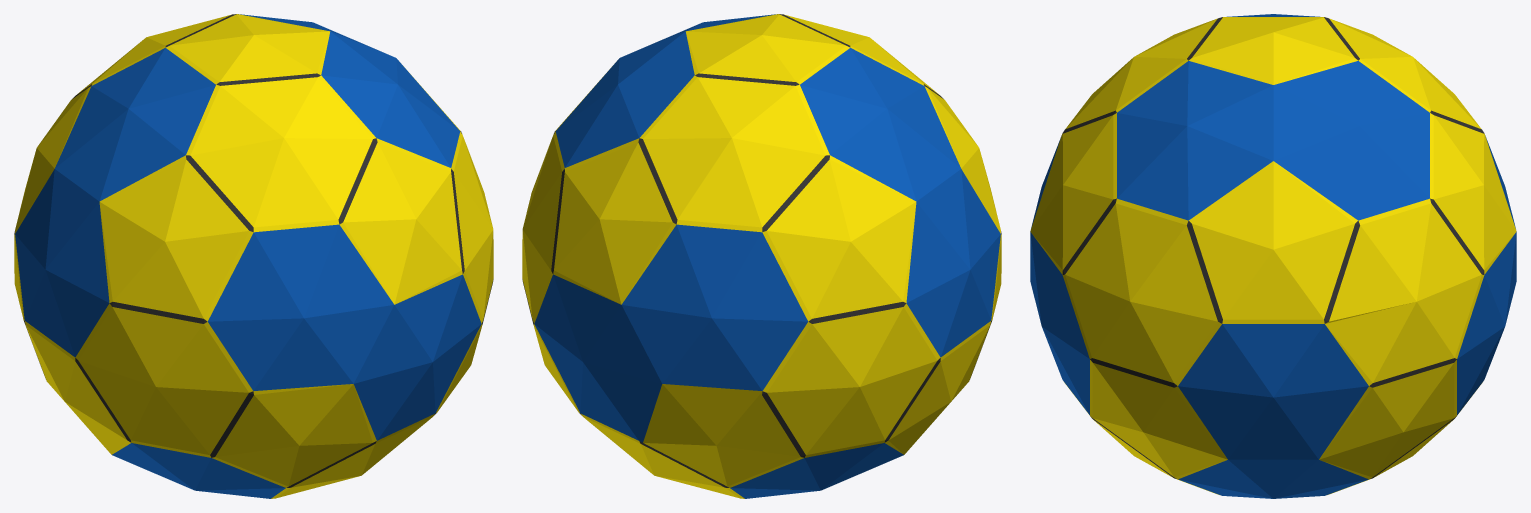
Rendered from HandballBall.fbx.
3 renders of one model, left to right at view 1: azimuth 30°, elevation 25°; view 2: azimuth 150°, elevation 25°; view 3: azimuth 270°, elevation 25°, orthographic.
Visible parts, largest first — view 1: HandballBall; view 2: HandballBall; view 3: HandballBall.
Part boxes in pixels (bbox=[...]): HandballBall: bbox=[14, 14, 493, 498]; HandballBall: bbox=[522, 14, 1001, 498]; HandballBall: bbox=[1030, 14, 1516, 498].
Bounding box in the file's own units: 21.68 × 22 × 21.63.
